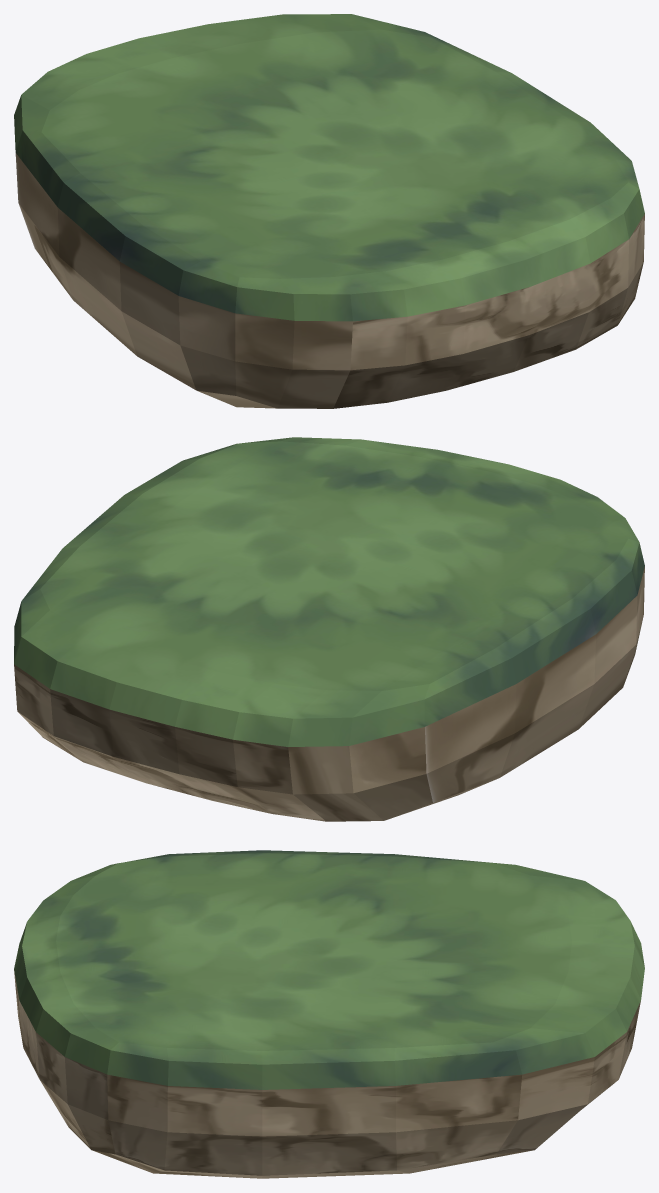
Rendered from floor4.fbx.
3 renders of one model, top to bottom at view 1: azimuth 30°, elevation 25°; view 2: azimuth 150°, elevation 25°; view 3: azimuth 270°, elevation 25°, orthographic. The views are drawn at different scales.
Parts seen in each view (by area): view 1: 地板; view 2: 地板; view 3: 地板.
Part boxes in pixels (left/top/right/bottom): 地板: left=14, top=14, right=644, bottom=408; 地板: left=14, top=437, right=644, bottom=821; 地板: left=14, top=850, right=644, bottom=1178.
Size of the model in its own units: 4764 by 1481 by 5784.
1 material, 1 textured.
